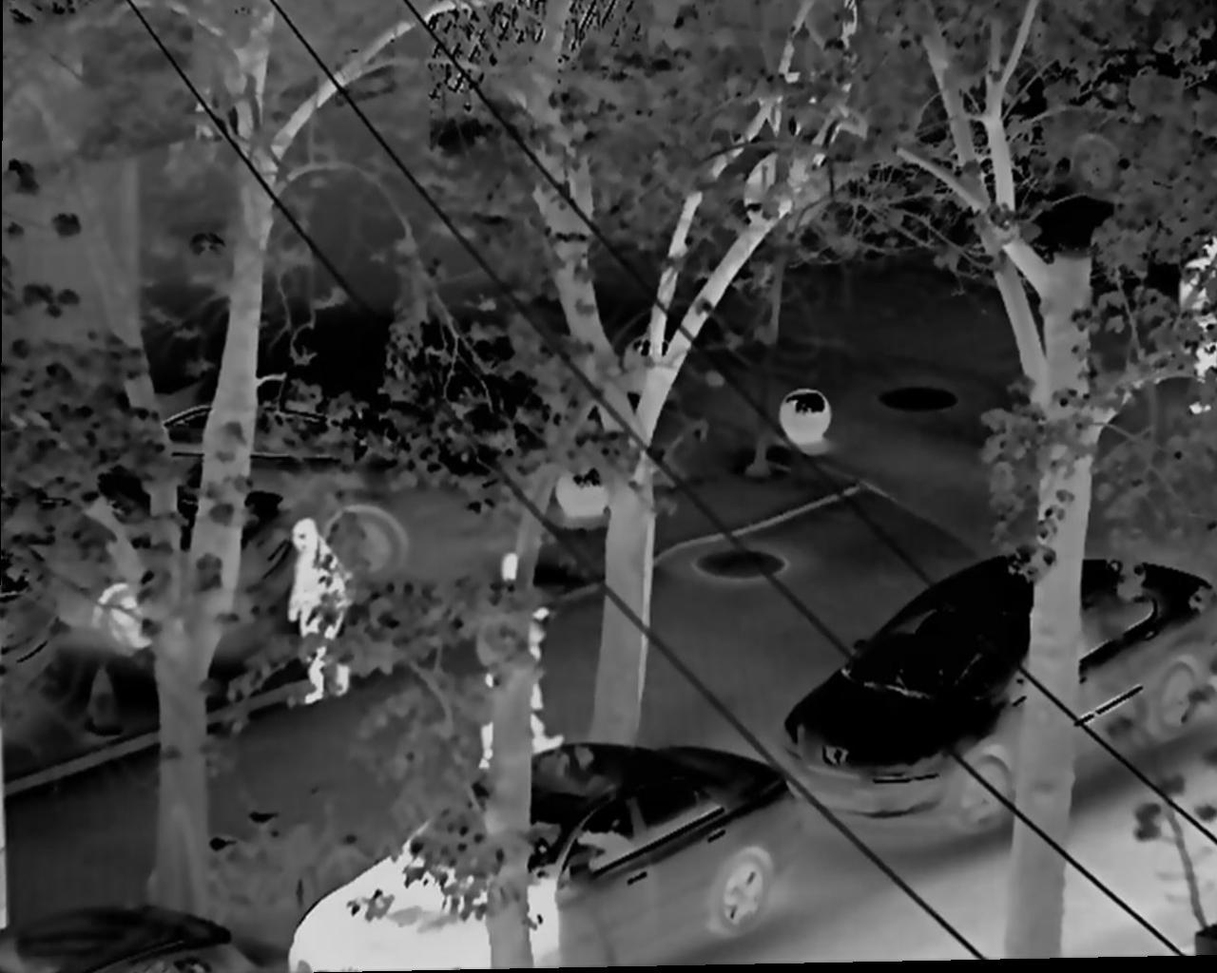person: (471, 549, 567, 775), (285, 517, 359, 713)
